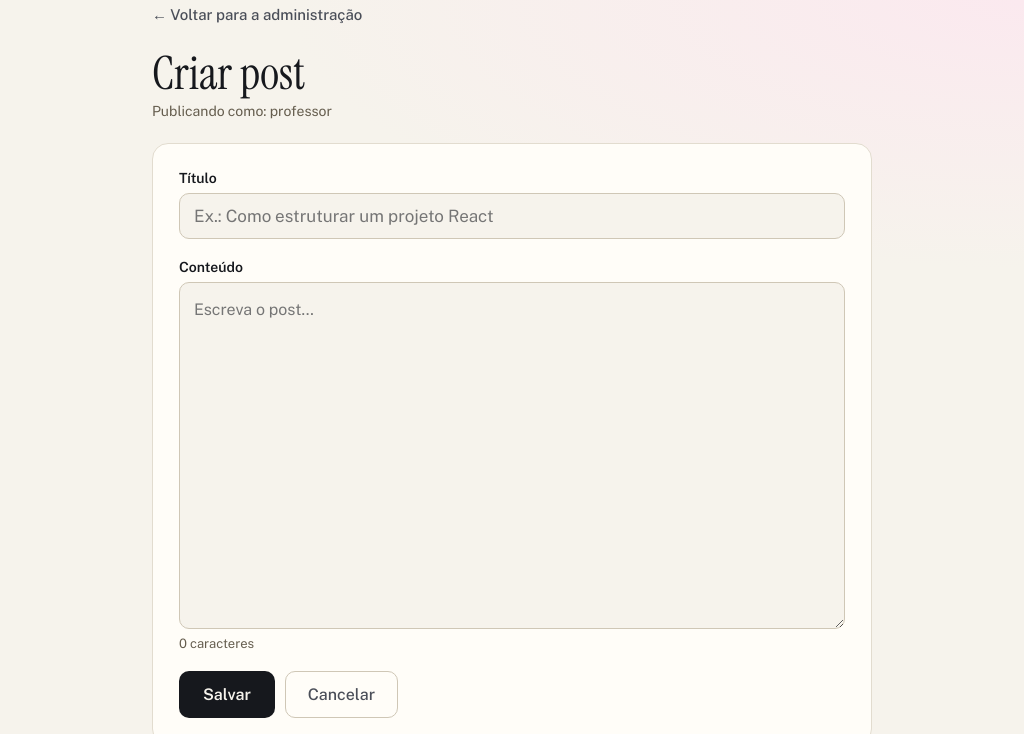
it: erro 400 mostra a mensagem e mantem os dados no formulario
Type "Titulo" into the field labelled "Título" at (512, 216), box [179, 193, 845, 239]
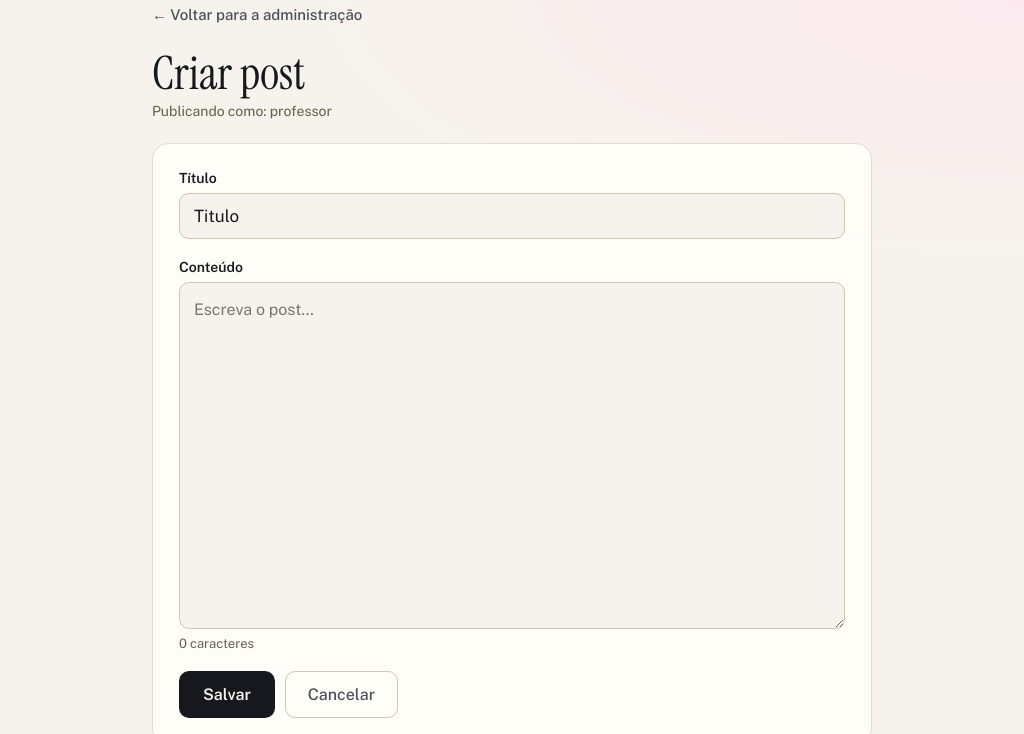
Type "Conteudo" into the text box labelled "Conteúdo" at (512, 456), box [179, 282, 845, 629]
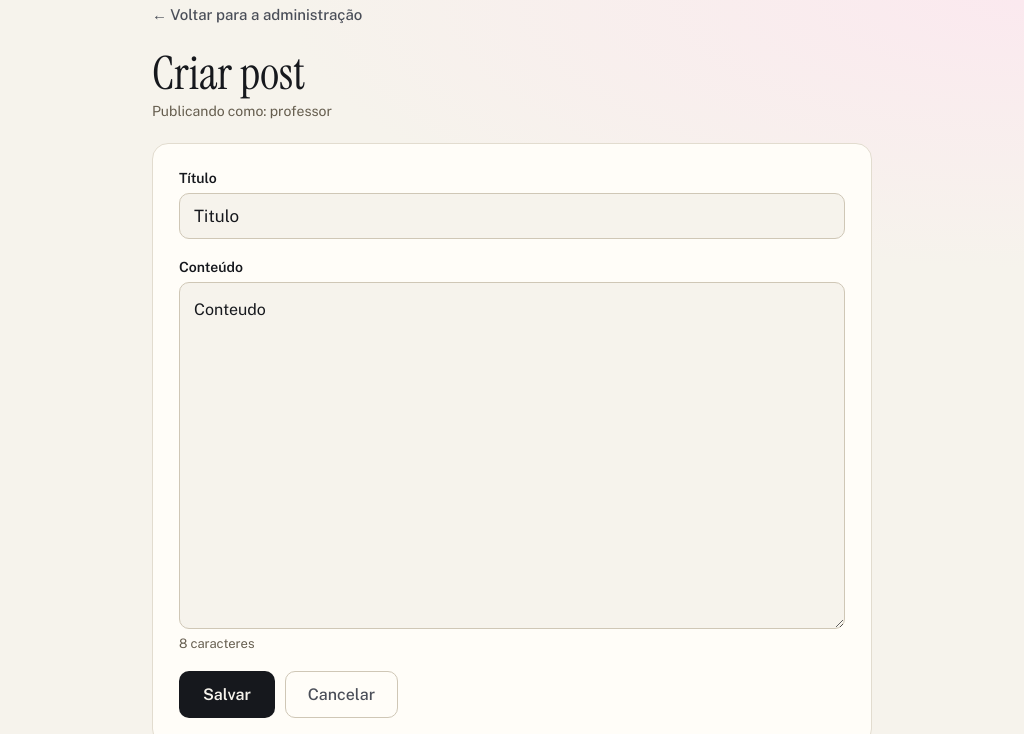
Click the button "Salvar" at (227, 694), box [179, 671, 275, 718]
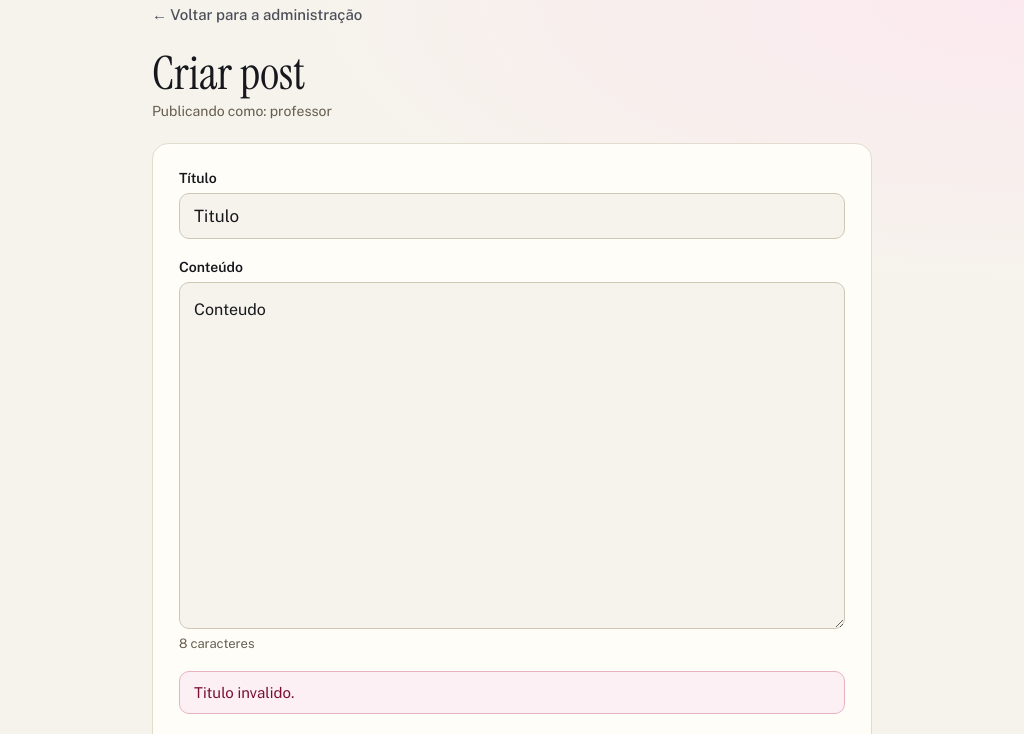
Result: the text "Titulo invalido." is shown at [194, 684, 294, 701]
